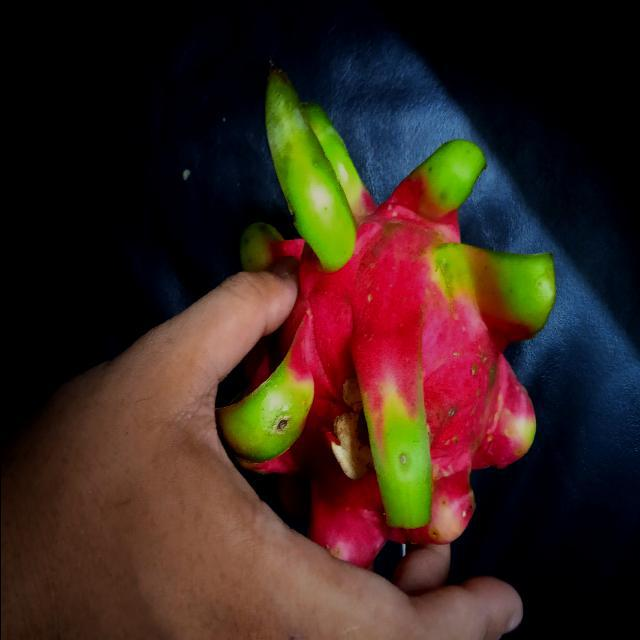do: (209, 64, 556, 568)
